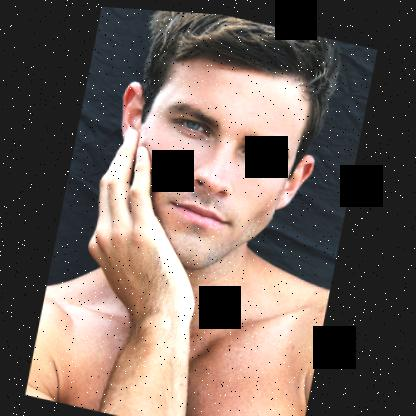Male: (96, 37, 329, 285)
